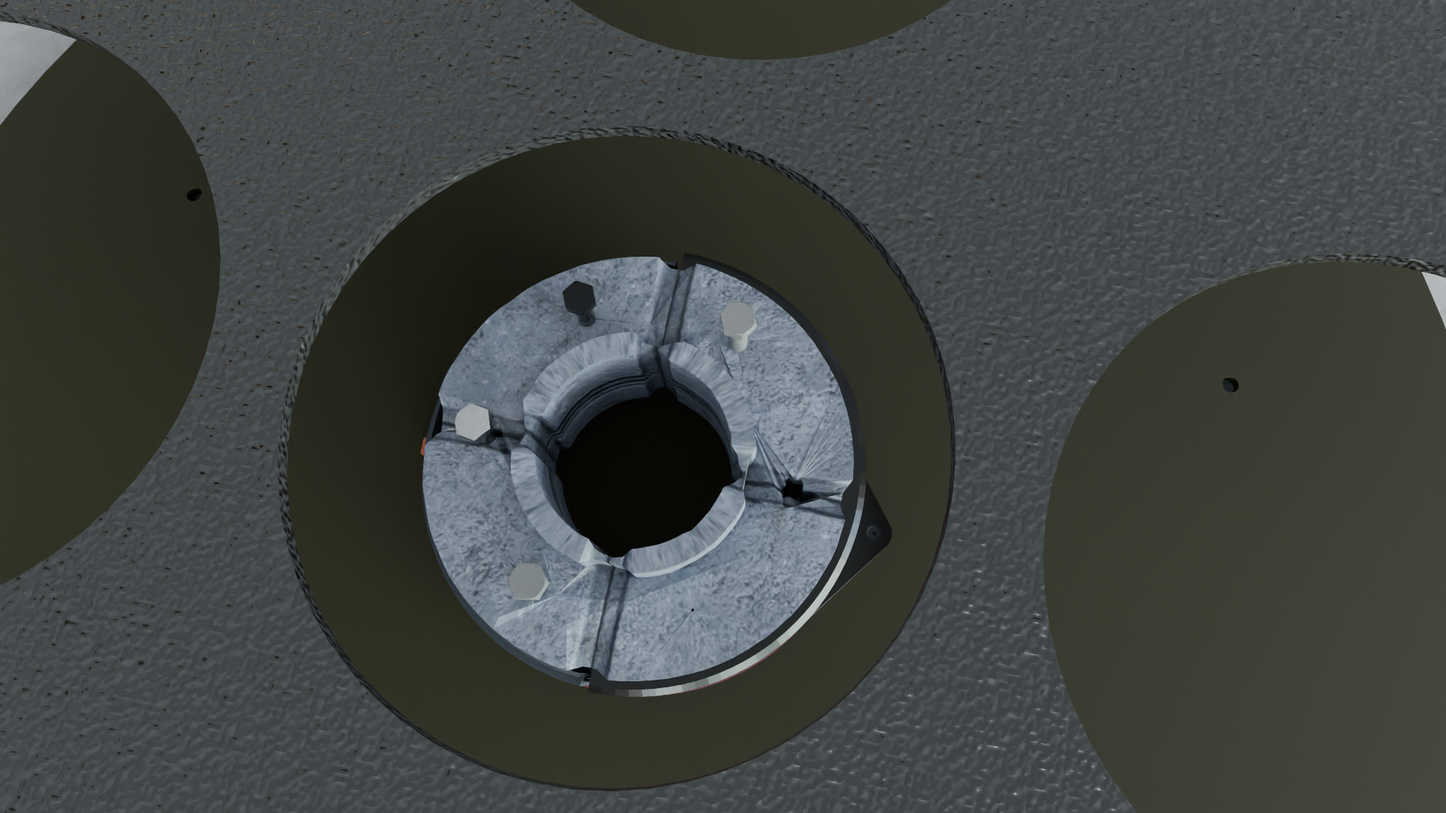bolt: (507, 563, 548, 599), (720, 300, 757, 336), (454, 403, 490, 440), (563, 281, 596, 313)
